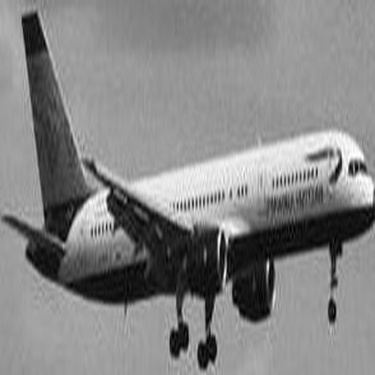airplane: (5, 4, 368, 372)
